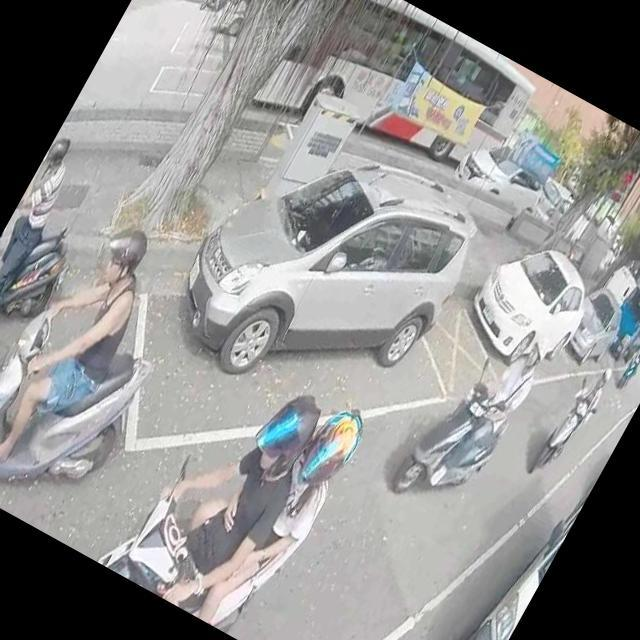person: (150, 369, 372, 640), (116, 358, 337, 629), (0, 209, 174, 501), (416, 320, 550, 503), (0, 131, 93, 366), (540, 359, 616, 467), (621, 338, 640, 386)
